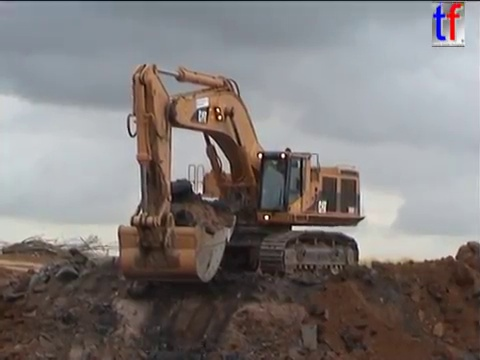excavator: (115, 60, 367, 287)
